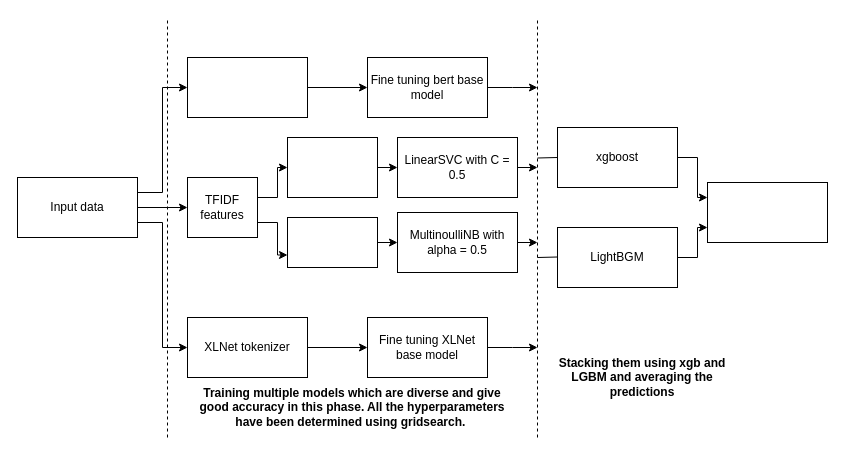
The diagram is 845 pixels wide and 456 high, and some of its shapes have lost their labels. The centre of each missing label's shape, as x and y in pixels:
Average predictions: (x=767, y=212)
BERT tokenizer: (x=247, y=87)
Choose best 11000 features: (x=332, y=242)
Choose best 16000 features: (x=332, y=167)
